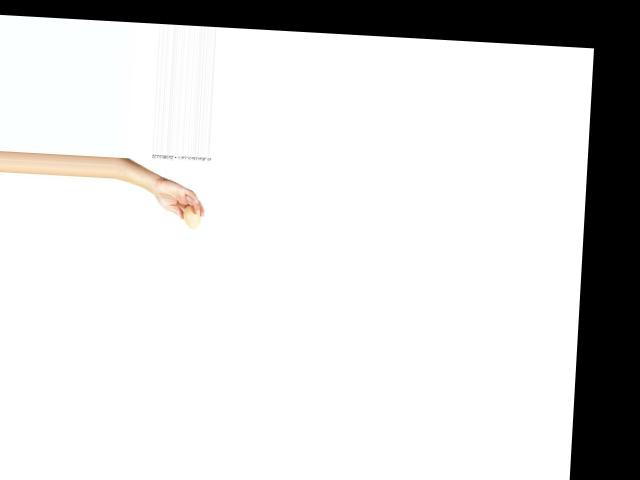egg: (182, 204, 201, 229)
